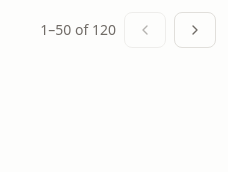
Test: the units table's pages › goes forward and back, and stops at both ends
Check: the 1st button is disabled, box x1=124 y1=12 x2=166 y2=48
Click the 2nd button at x=195, y=30, box x1=174 y1=12 x2=216 y2=48
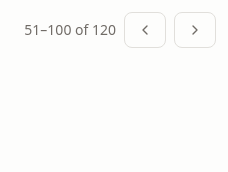
Click the 2nd button at x=195, y=30, box x1=174 y1=12 x2=216 y2=48
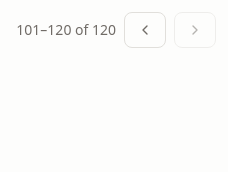
Check: the text "101–120 of 120" is shown, box x1=16 y1=12 x2=216 y2=48
Click the 1st button at x=145, y=30, box x1=124 y1=12 x2=166 y2=48
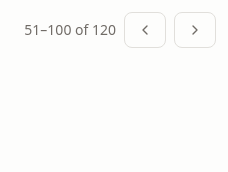
Check: the text "51–100 of 120" is shown, box x1=24 y1=12 x2=216 y2=48
